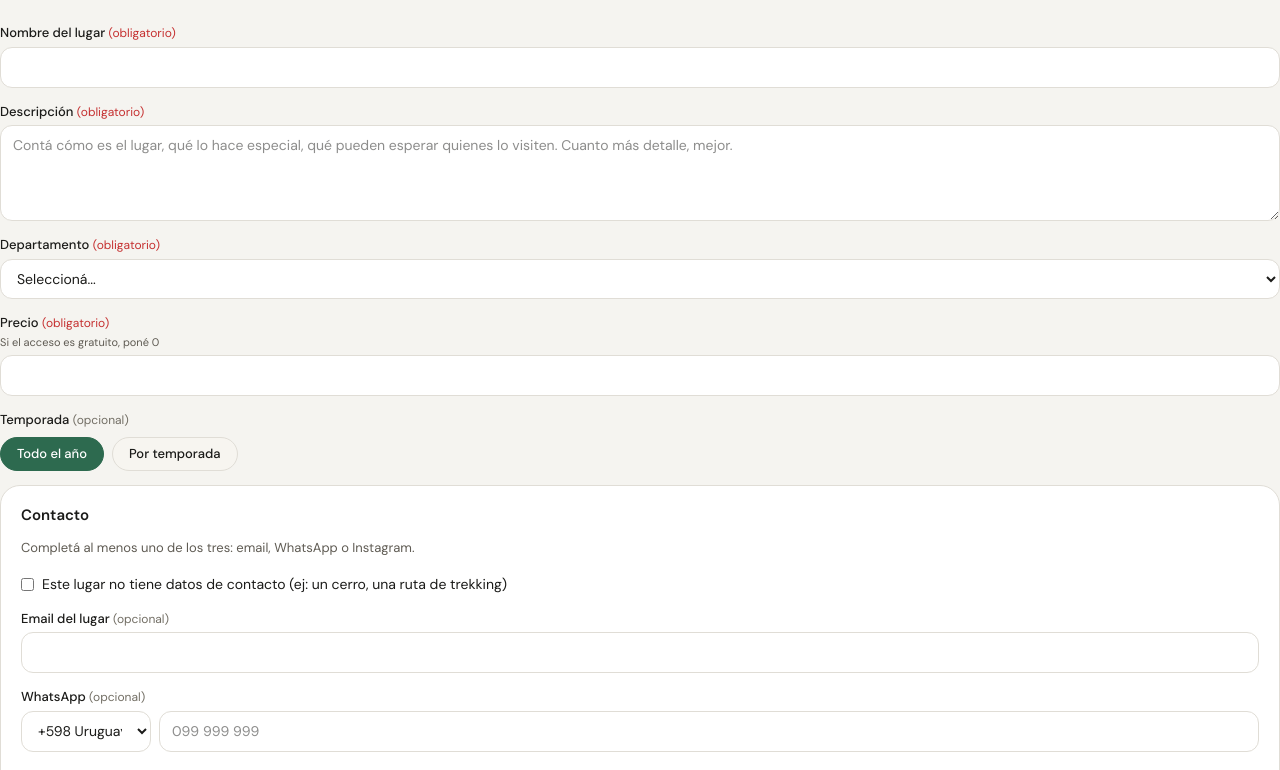
Scenario: StepInfoBasica: nombre repetido › avisa si ya existe, y al cambiar o borrar el nombre el aviso se va enseguida
El primer campo de texto es el nombre.
Type "Cerro Ocupado" into the field labelled "Nombre del lugar (obligatorio)". click: (640,67)
box: [0,46,1279,88]
Wait 500 ms
(page scrolled)
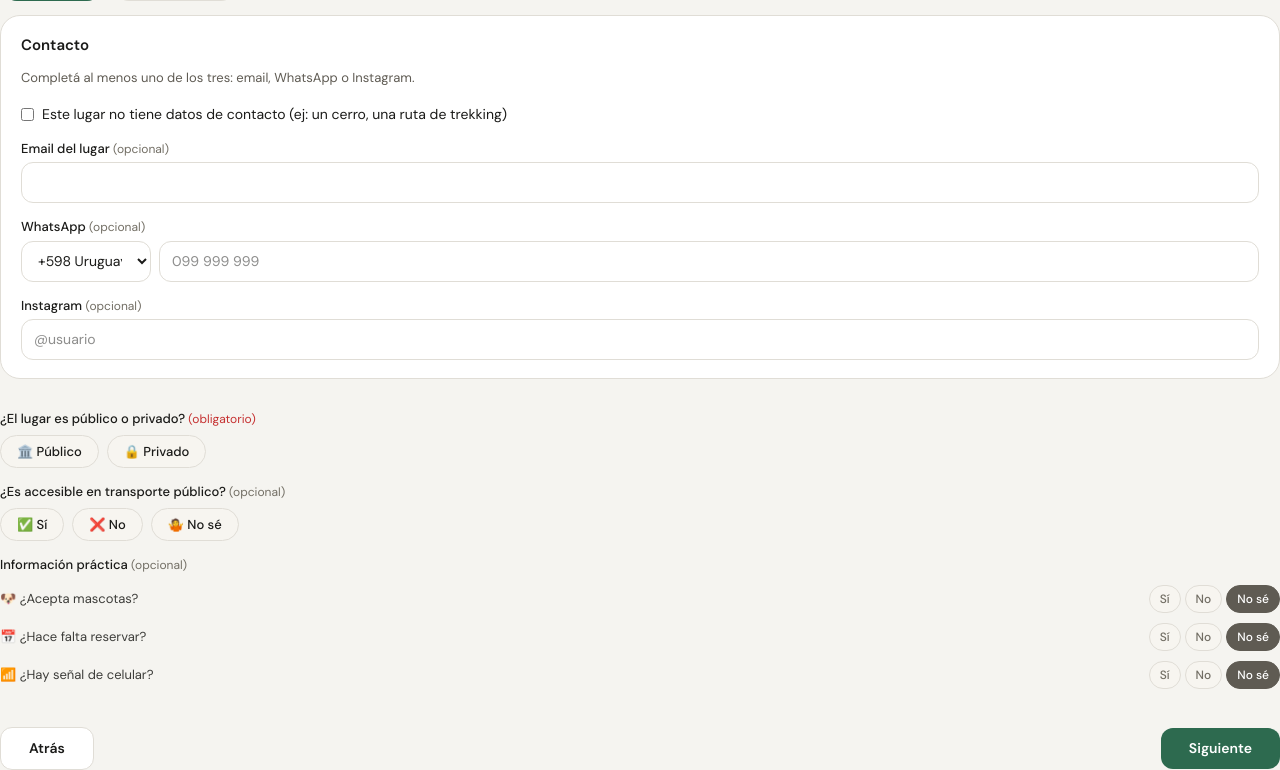
Click the button "Siguiente". click: (1220,748)
box: [1161,728,1279,768]
(page scrolled)
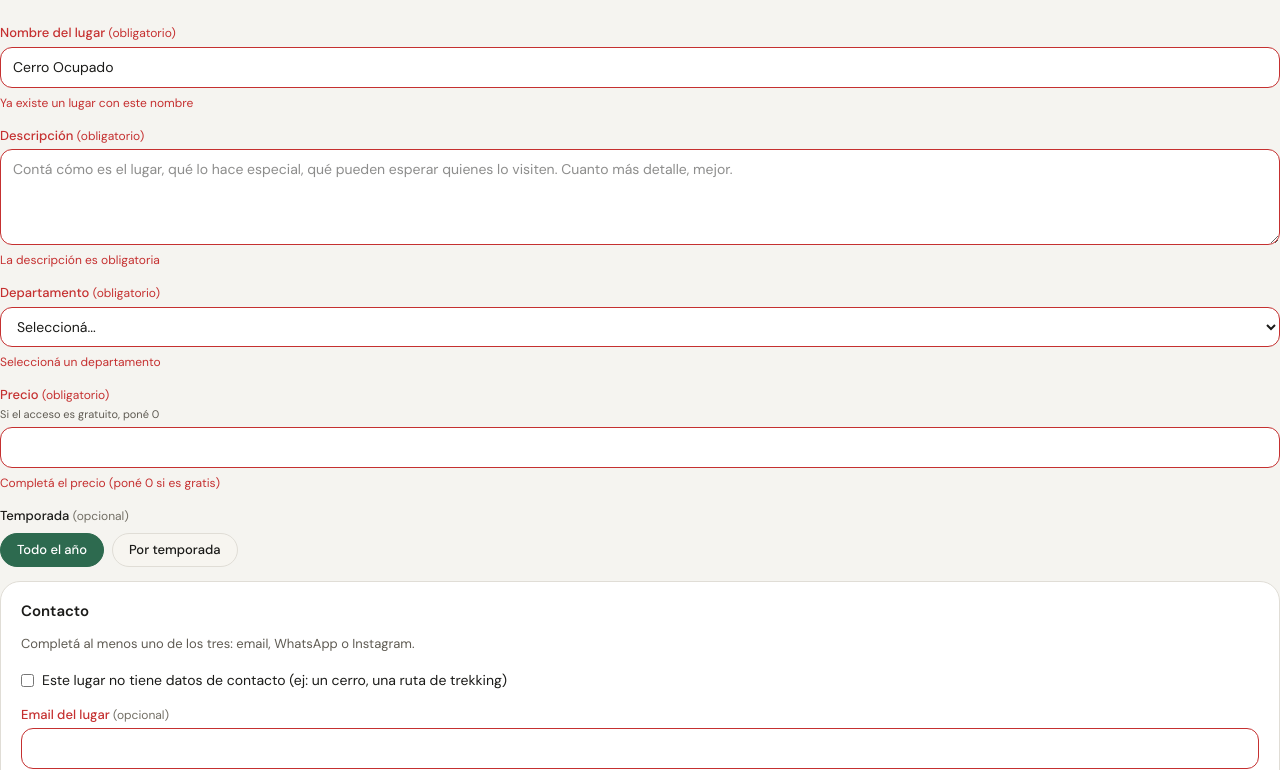
Expected: the text "Ya existe un lugar con este nombre" is shown, [0,94,193,110]
Replace the text in the field labelled "Nombre del lugar (obligatorio)" with "Cerro Libre". click: (640,67)
box: [0,46,1279,88]
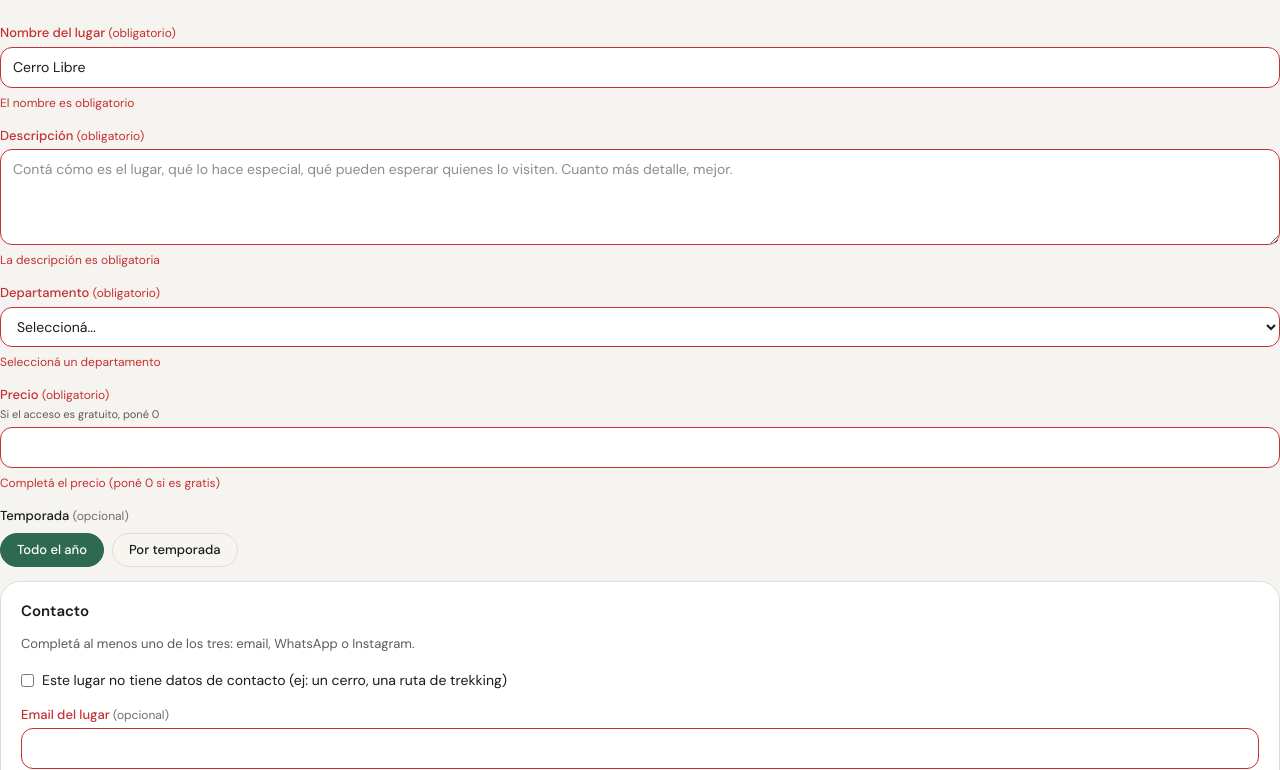
Expected: the text "Ya existe un lugar con este nombre" is gone
Replace the text in the field labelled "Nombre del lugar (obligatorio)" with "Cerro Ocupado". click: (640,67)
box: [0,46,1279,88]
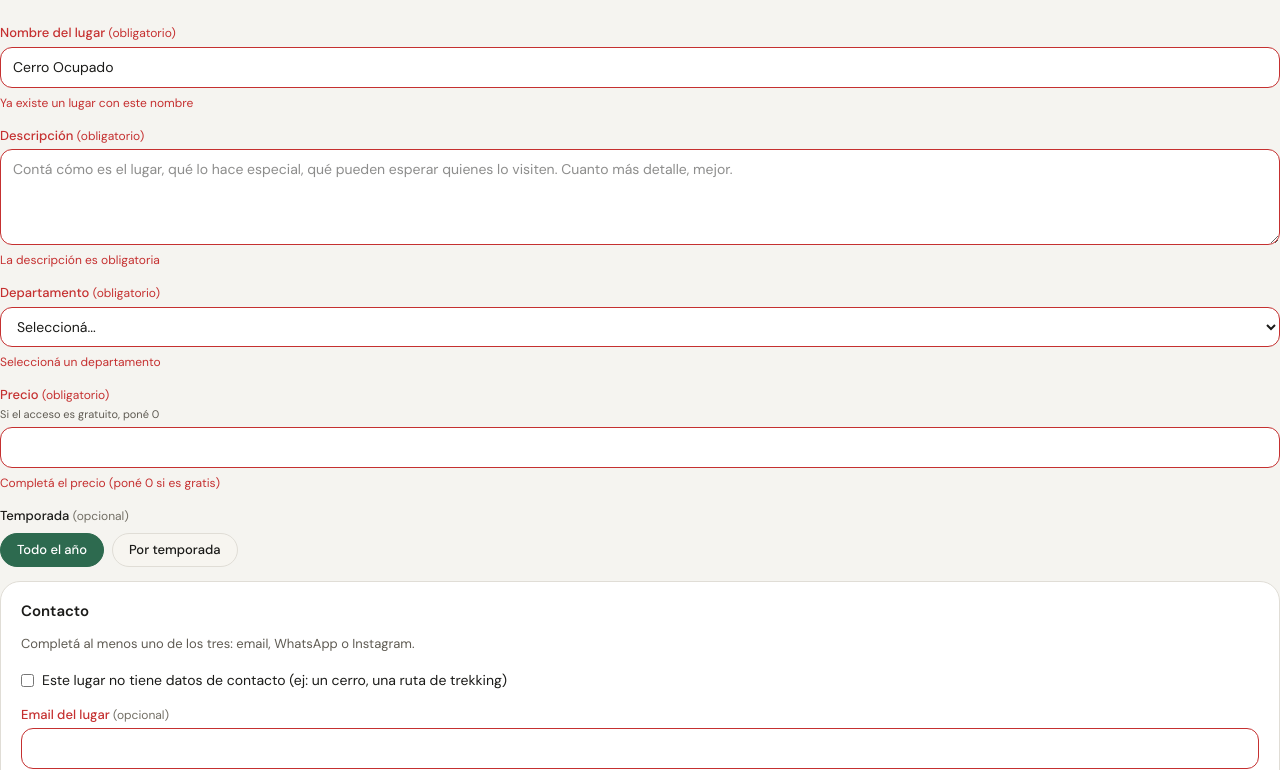
Expected: the text "Ya existe un lugar con este nombre" is shown, [0,94,193,110]
Clear the field labelled "Nombre del lugar (obligatorio)". click: (640,67)
box: [0,46,1279,88]
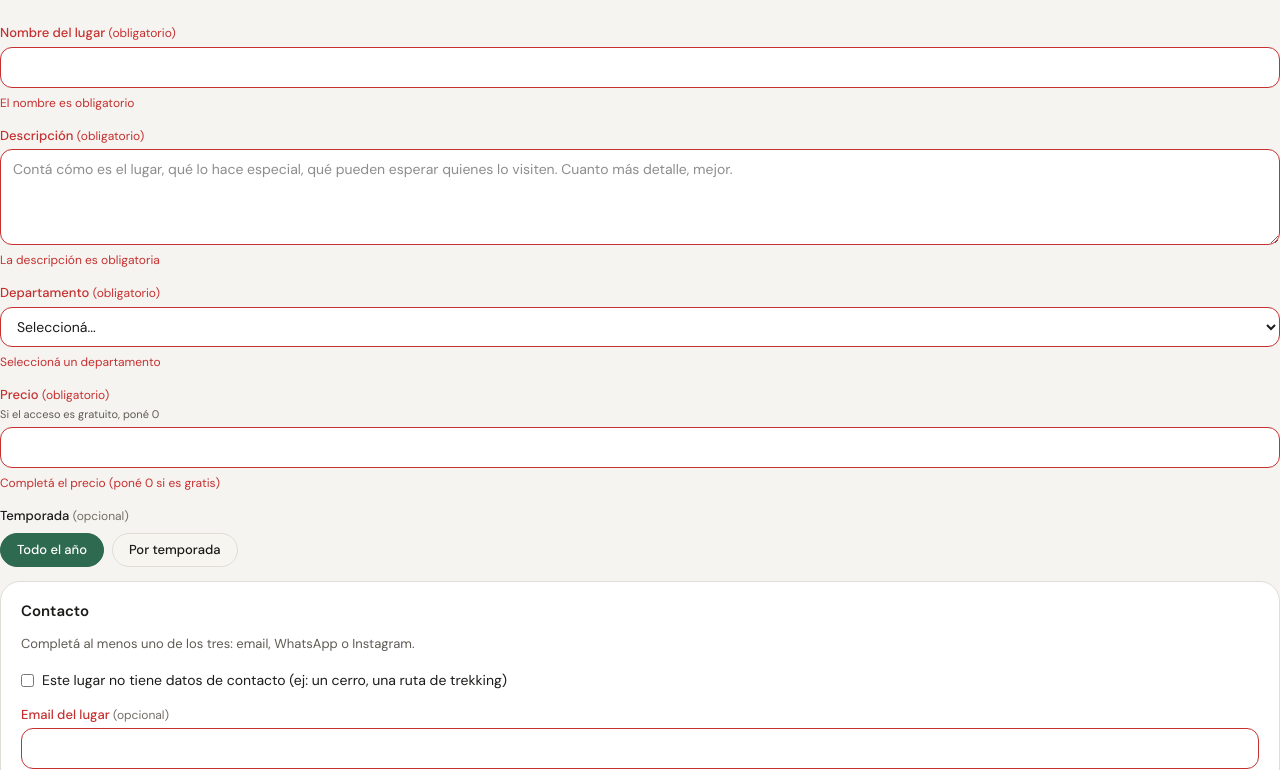
Expected: the text "Ya existe un lugar con este nombre" is gone
